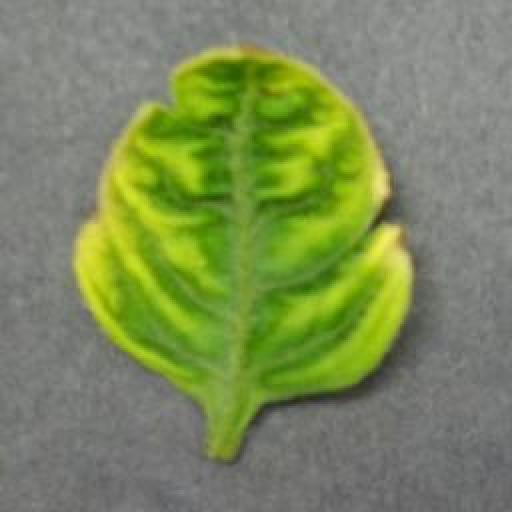disease_tomato: (72, 42, 416, 402)
